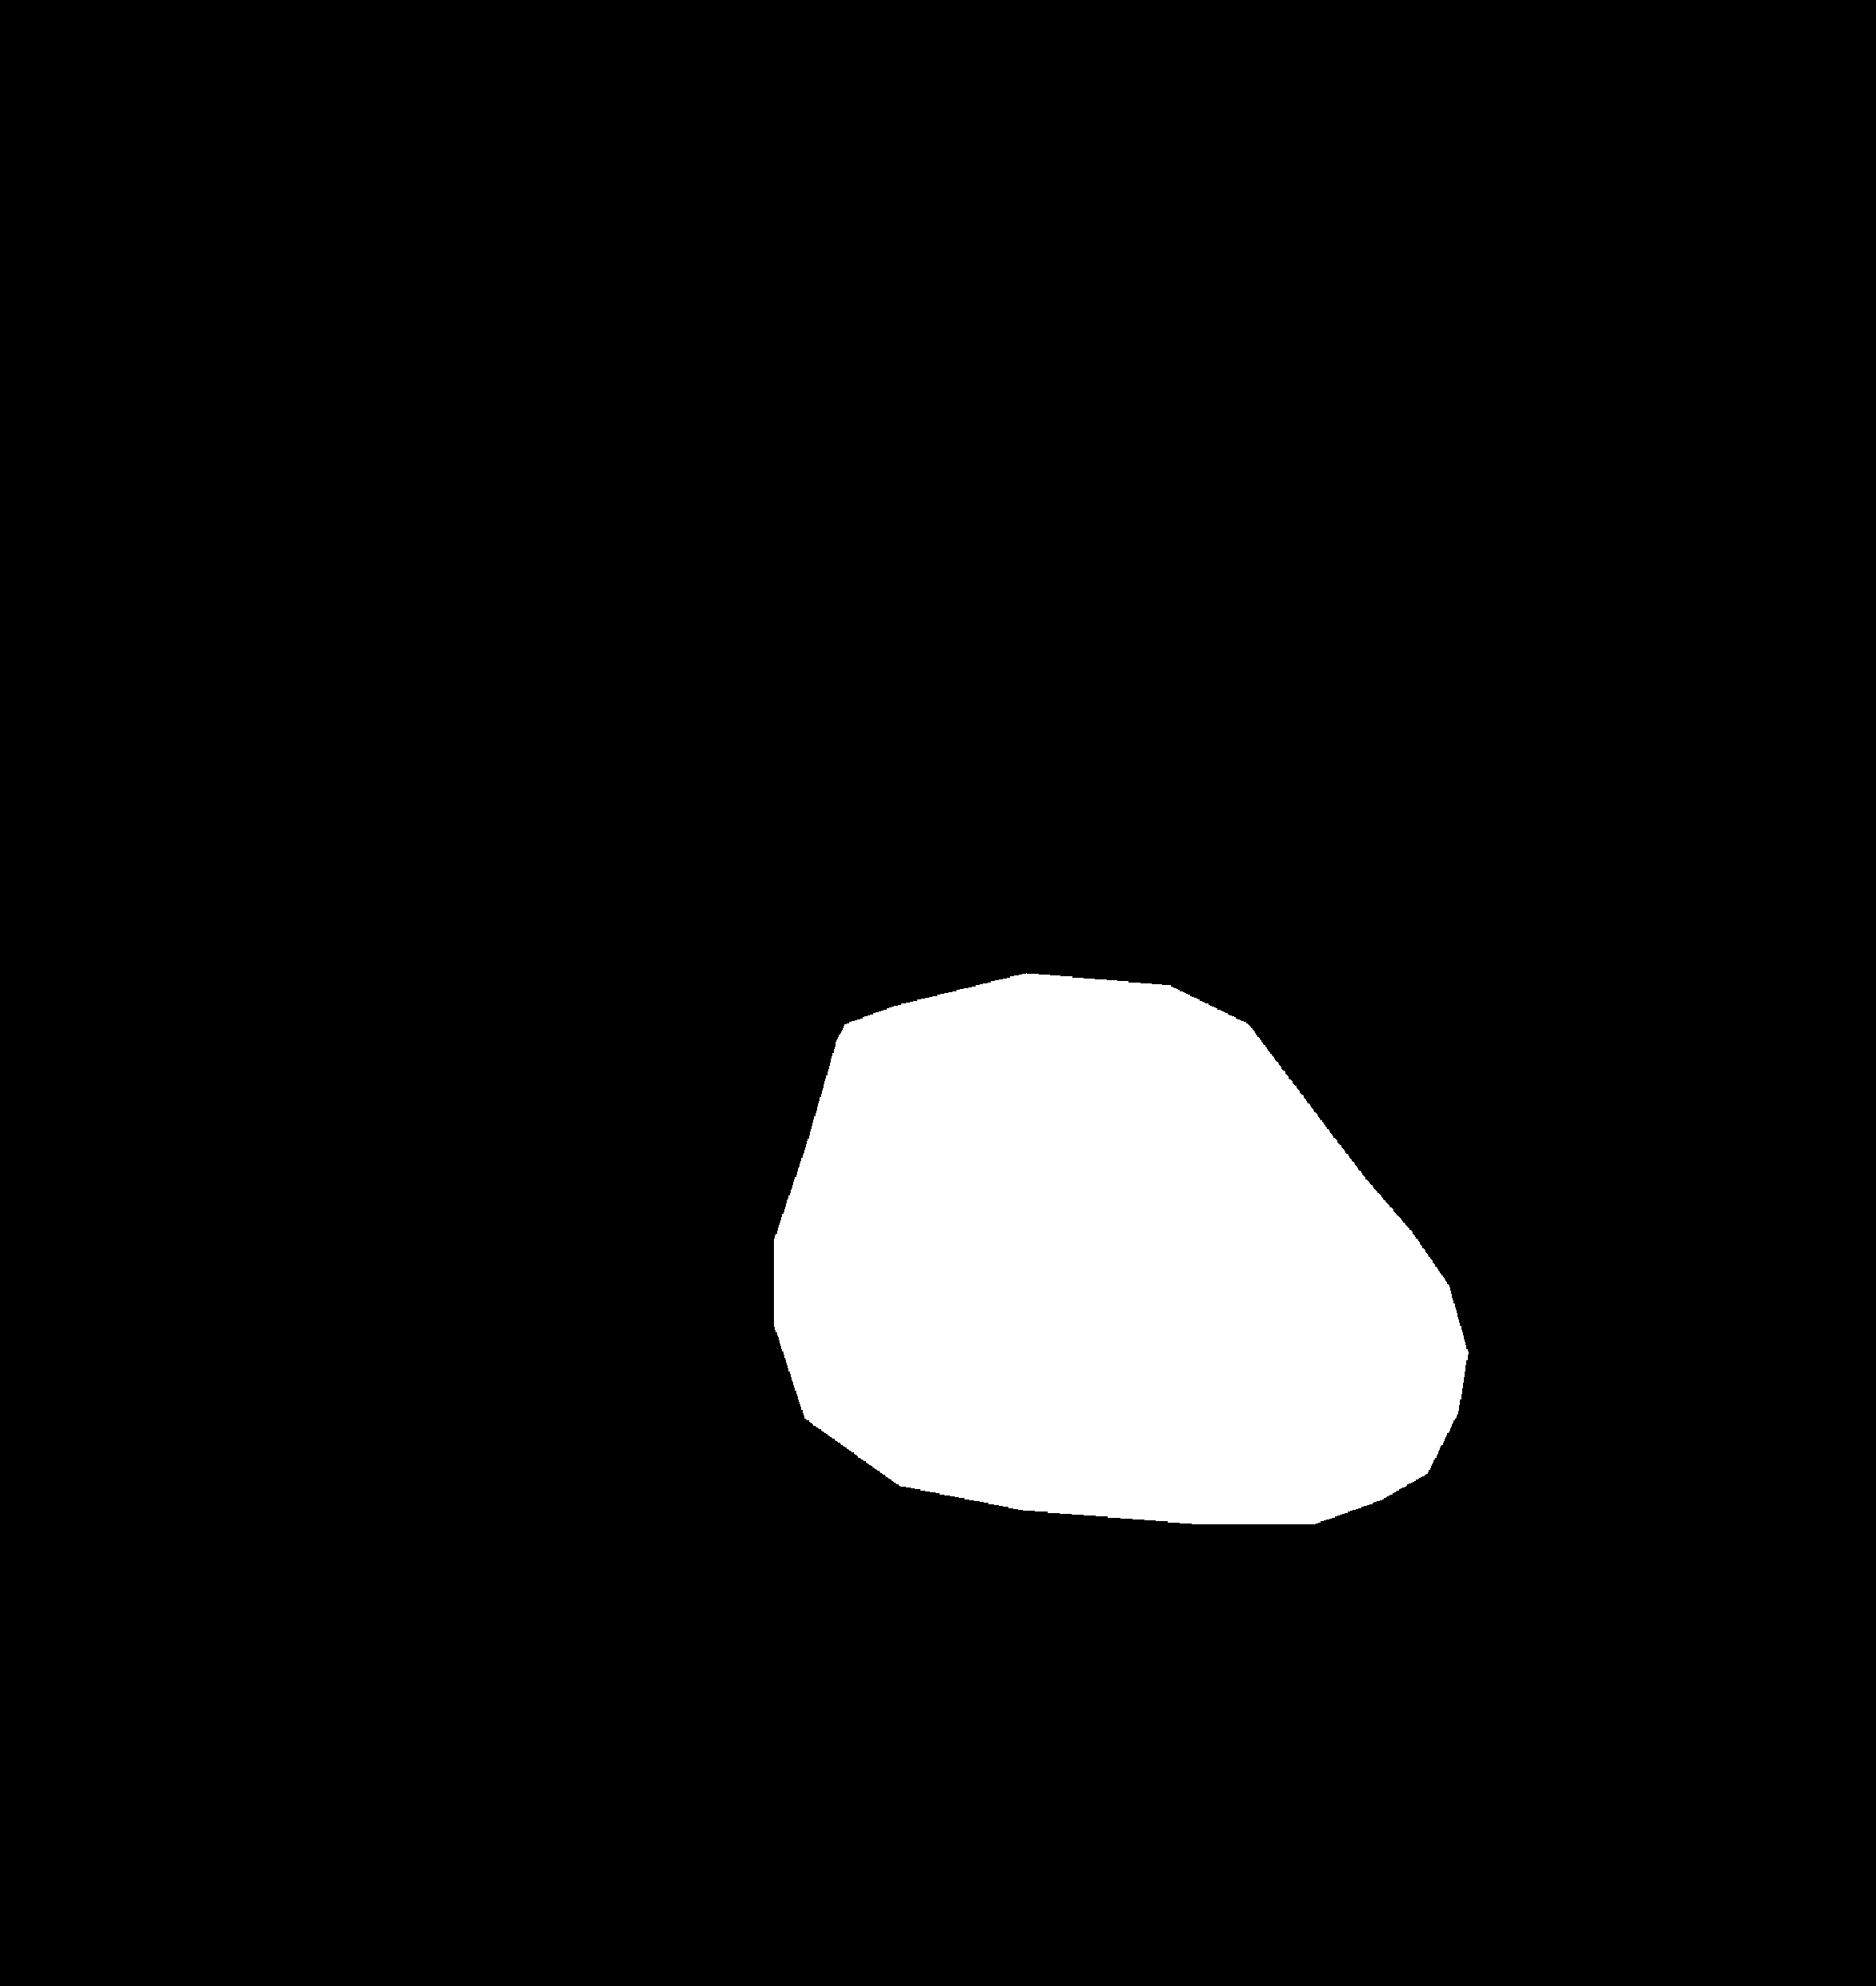heart: (767, 1142, 1474, 1528)
left_lung: (238, 243, 862, 1567)
right_lung: (1017, 211, 1634, 1618)
